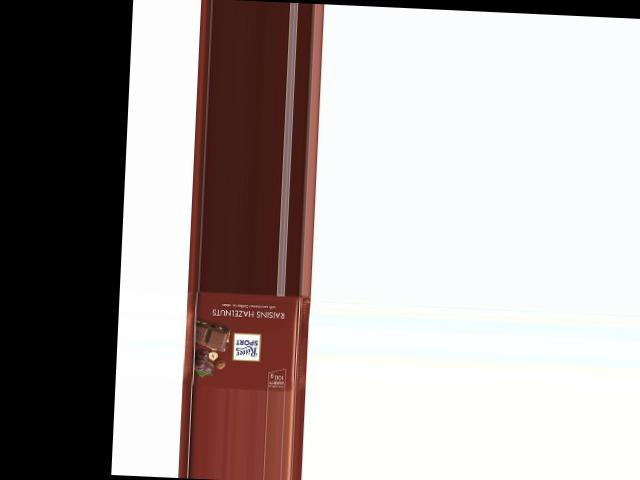chocolate: (180, 290, 310, 392)
